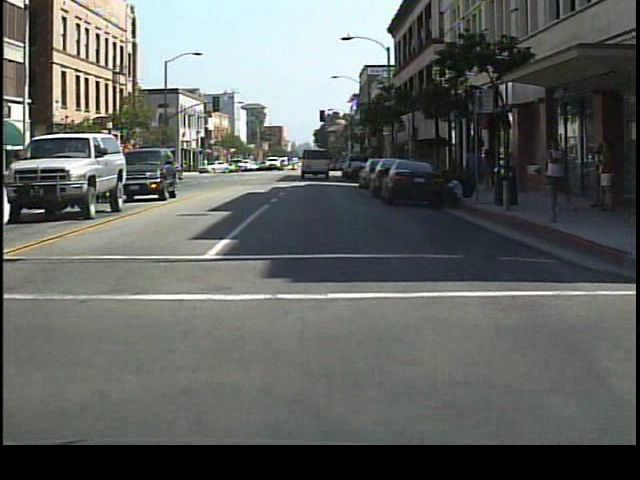person: (540, 129, 576, 223), (463, 141, 484, 200), (481, 143, 502, 196)
